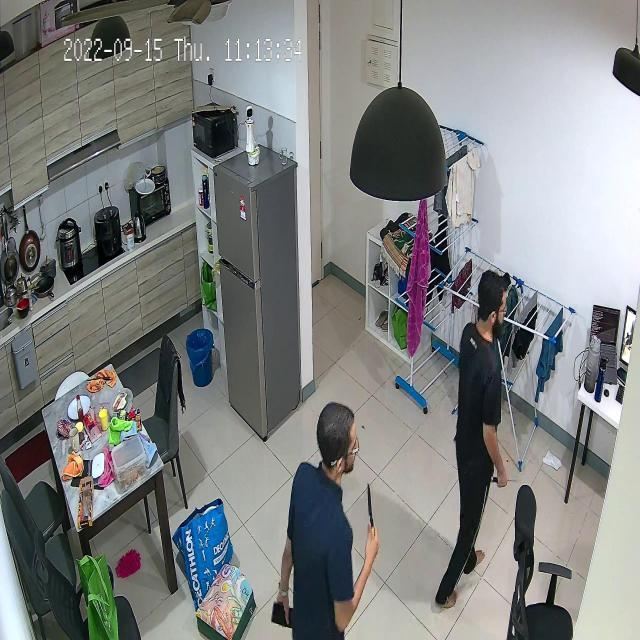Knife: (483, 464, 531, 494), (360, 480, 382, 540)
